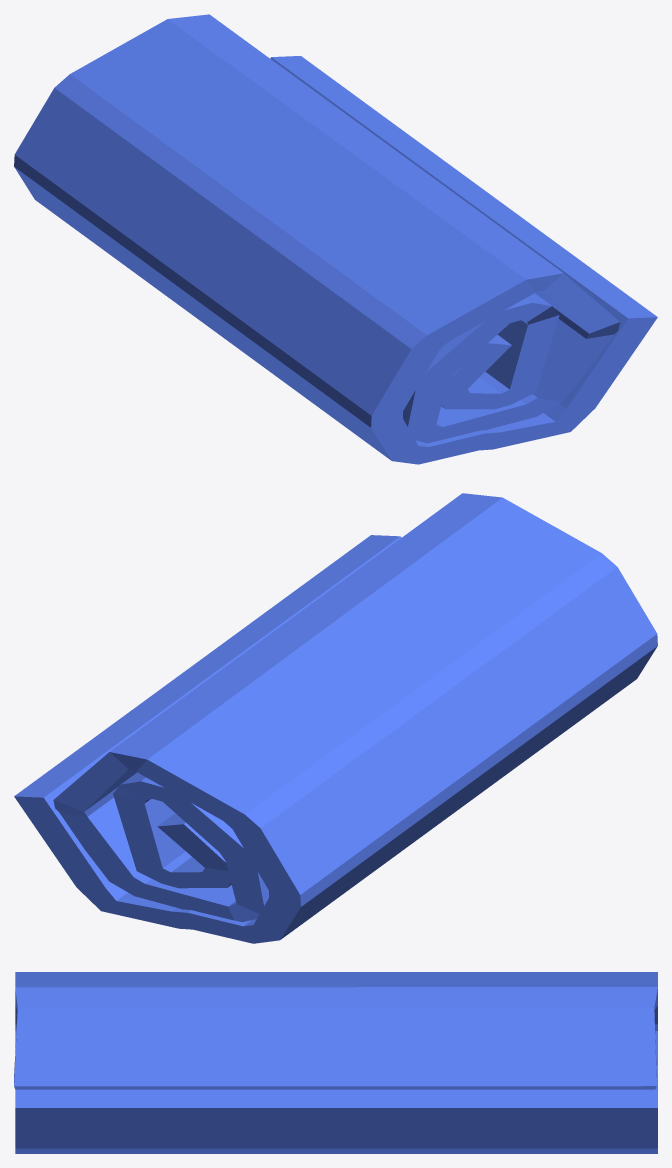
File: ServietteReal.fbx
The picture shows the model from 3 angles, top to bottom: view 1: azimuth 30°, elevation 25°; view 2: azimuth 150°, elevation 25°; view 3: azimuth 270°, elevation 25°; orthographic projection. The views are drawn at different scales.
Visible parts, largest first — view 1: Plane; view 2: Plane; view 3: Plane.
Part boxes in pixels (x1,y1,x2,y2): Plane: (14, 14, 657, 464); Plane: (14, 493, 657, 943); Plane: (14, 972, 657, 1153).
Size of the model in its own units: 43.72 by 23.76 by 94.42.
